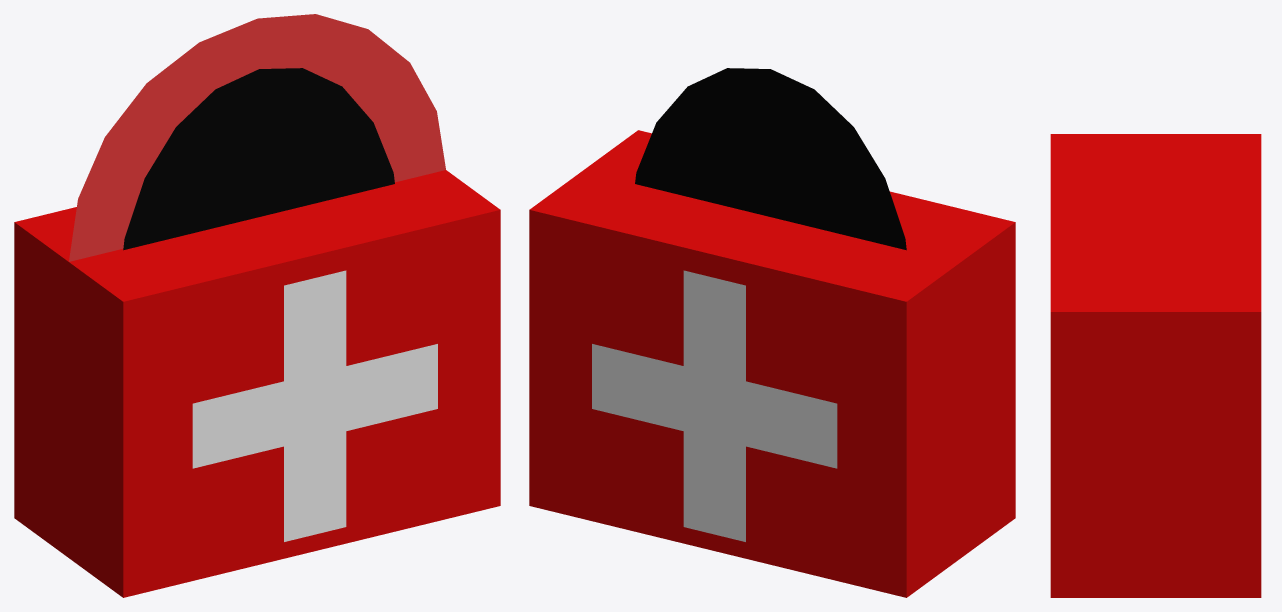
The model's file is health.glb.
3 views of the same model, side by side, from view 1: azimuth 30°, elevation 25°; view 2: azimuth 150°, elevation 25°; view 3: azimuth 270°, elevation 25° (orthographic). The views are drawn at different scales.
Visible parts, largest first — view 1: Mesh, Disc (×2), Plane (×2); view 2: Mesh, Plane (×2), Disc; view 3: Mesh.
Boxes of the visible parts, x1,y1,x2,y2 form: Mesh: [14, 170, 500, 597]; Disc (×2): [69, 14, 445, 261]; Plane (×2): [192, 270, 437, 541]; Mesh: [529, 130, 1015, 597]; Plane (×2): [592, 270, 837, 541]; Disc: [635, 68, 906, 250]; Mesh: [1050, 134, 1261, 597].
Size of the model in its own units: 2 by 2.5 by 1.06.
